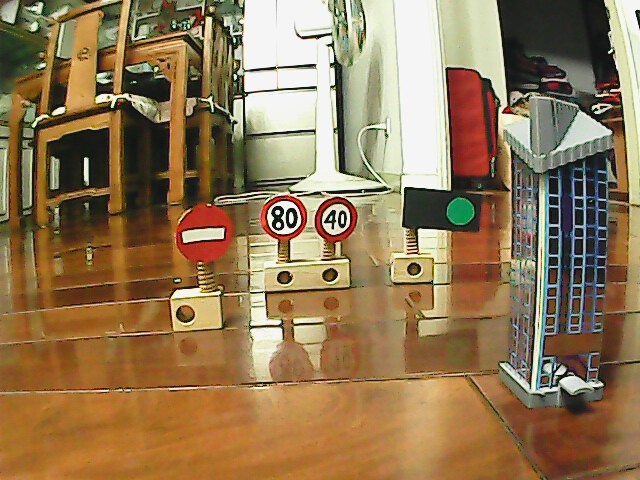Green Traffic Light: (441, 192, 480, 232)
Speed Limit 40: (311, 193, 362, 243)
Speed Limit 80: (258, 193, 308, 242)
Stop Sign: (173, 202, 237, 264)
